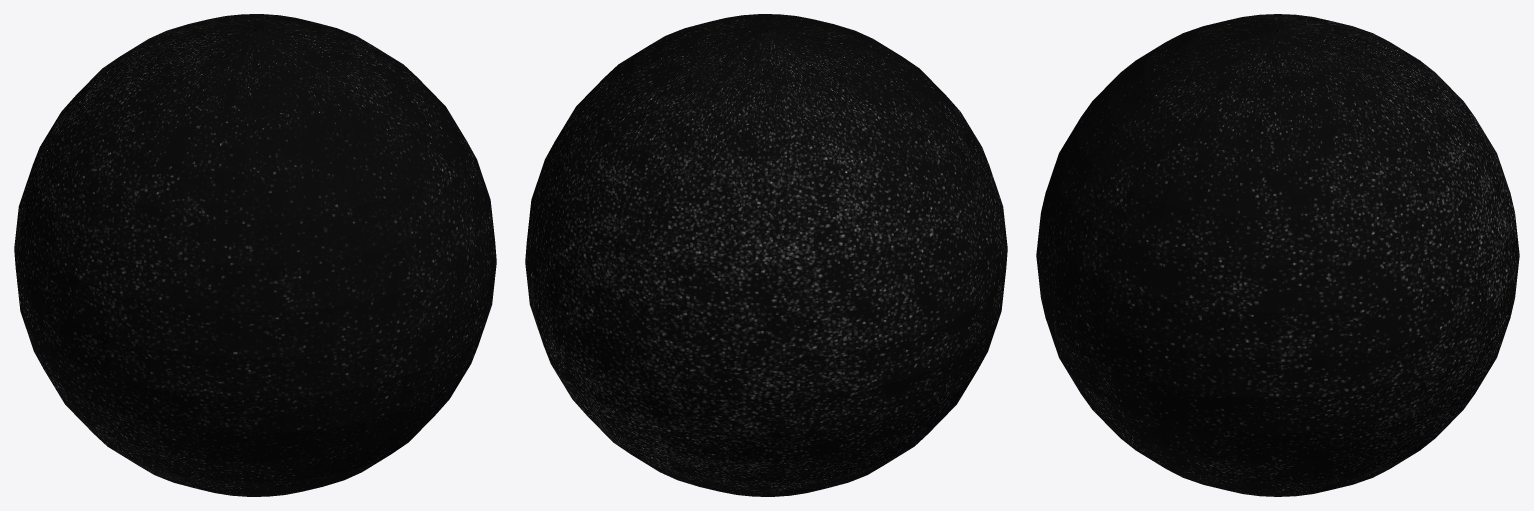
File: sky.obj
3 renders of one model, left to right at view 1: azimuth 30°, elevation 25°; view 2: azimuth 150°, elevation 25°; view 3: azimuth 270°, elevation 25°, orthographic.
Visible parts, largest first — view 1: Sphere; view 2: Sphere; view 3: Sphere.
Part boxes in pixels (bbox=[...]): Sphere: bbox=[14, 14, 496, 496]; Sphere: bbox=[525, 14, 1007, 496]; Sphere: bbox=[1036, 14, 1519, 496].
Bounding box in the file's own units: 2 × 2.05 × 2.
1 material, 1 textured.
